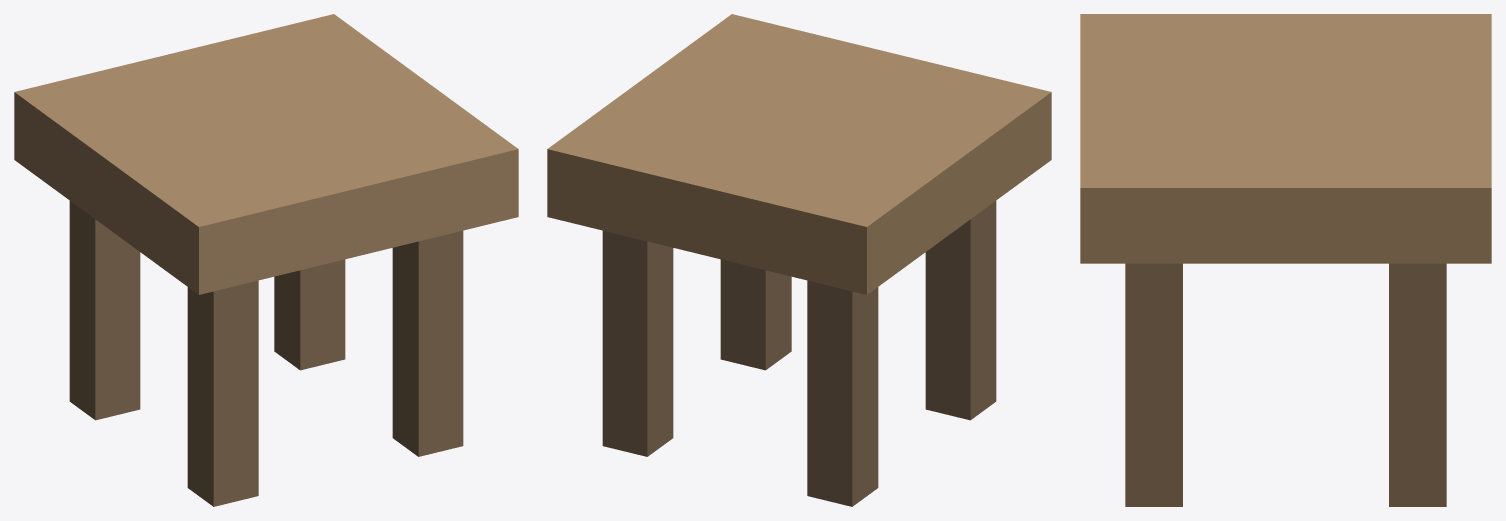
Rendered from stool.gltf.
The picture shows the model from 3 angles, left to right: view 1: azimuth 30°, elevation 25°; view 2: azimuth 150°, elevation 25°; view 3: azimuth 270°, elevation 25°; orthographic projection. The views are drawn at different scales.
Visible parts, largest first — view 1: stool; view 2: stool; view 3: stool.
Boxes of the visible parts, bbox=[...] form: stool: bbox=[14, 14, 518, 506]; stool: bbox=[547, 14, 1051, 506]; stool: bbox=[1080, 14, 1491, 506].
Bounding box in the file's own units: 0.64 × 0.58 × 0.64.
